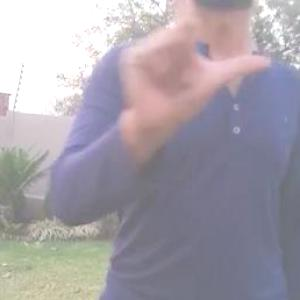land_hand: (99, 0, 270, 141)
